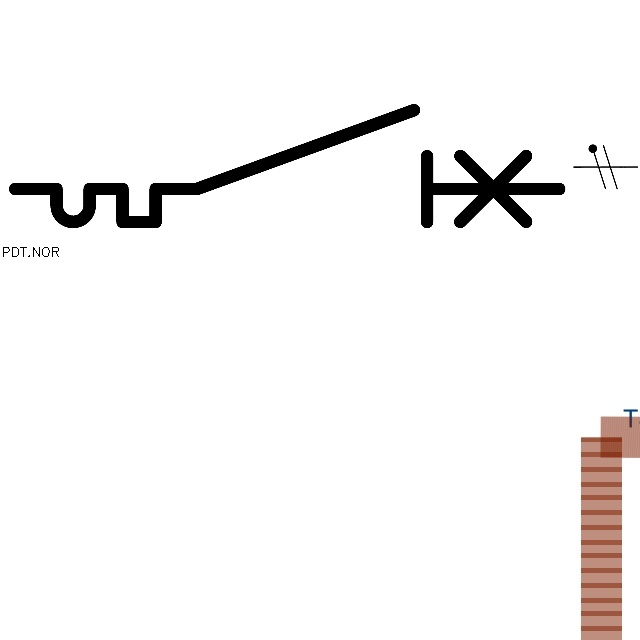interruptor_termomagnetico: (1, 96, 573, 236)
